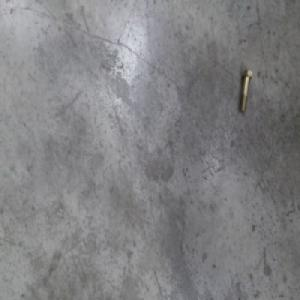Bolt: (236, 64, 249, 109)
